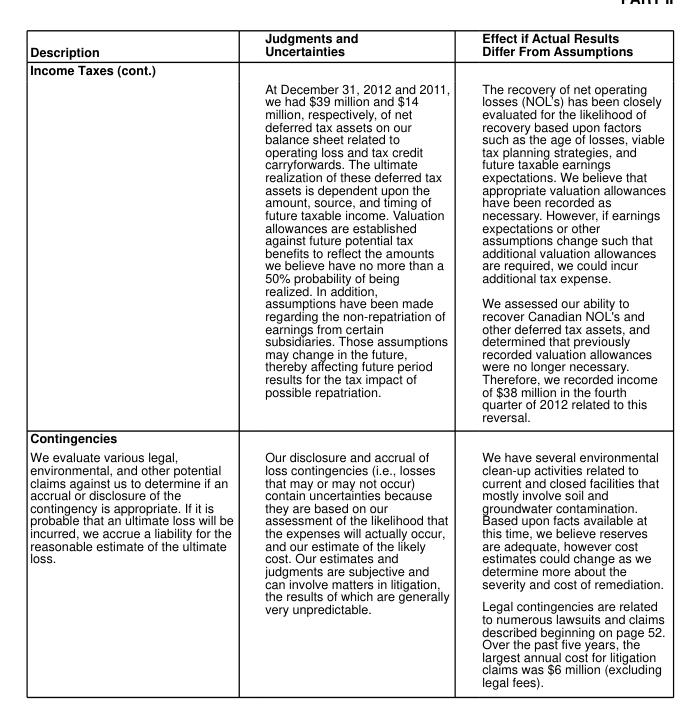table: (29, 28, 665, 689)
table column: (29, 28, 248, 689), (248, 28, 465, 689), (465, 28, 665, 689)
table column header: (29, 28, 665, 59)
table projected row header: (29, 426, 665, 447), (29, 59, 665, 78)
table row: (29, 78, 665, 426), (29, 447, 665, 689), (29, 28, 665, 59), (29, 426, 665, 447), (29, 59, 665, 78)
